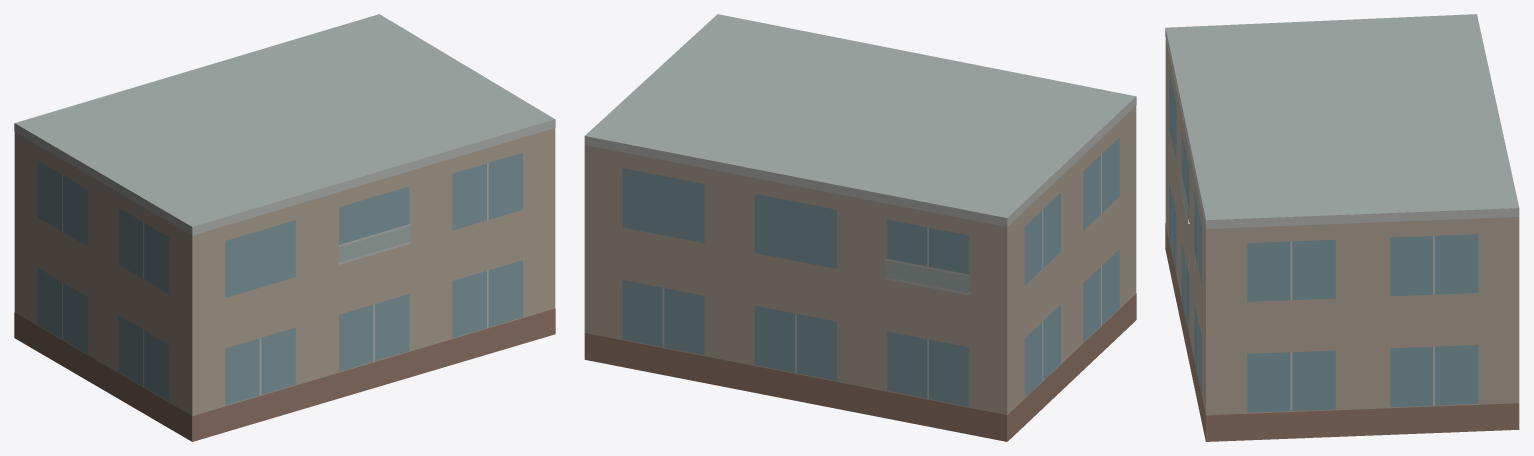
Rendered from survey-upis-32769645.glb.
3 renders of one model, left to right at view 1: azimuth 30°, elevation 25°; view 2: azimuth 150°, elevation 25°; view 3: azimuth 270°, elevation 25°, orthographic. The views are drawn at different scales.
Parts seen in each view (by area): view 1: survey-upis-32769645.tmp; view 2: survey-upis-32769645.tmp; view 3: survey-upis-32769645.tmp.
Part boxes in pixels (box(x1,y1,x2,y2)): survey-upis-32769645.tmp: box(14, 14, 555, 441); survey-upis-32769645.tmp: box(584, 14, 1136, 441); survey-upis-32769645.tmp: box(1165, 14, 1519, 441).
Size of the model in its own units: 12.18 by 6.1 by 8.84.
